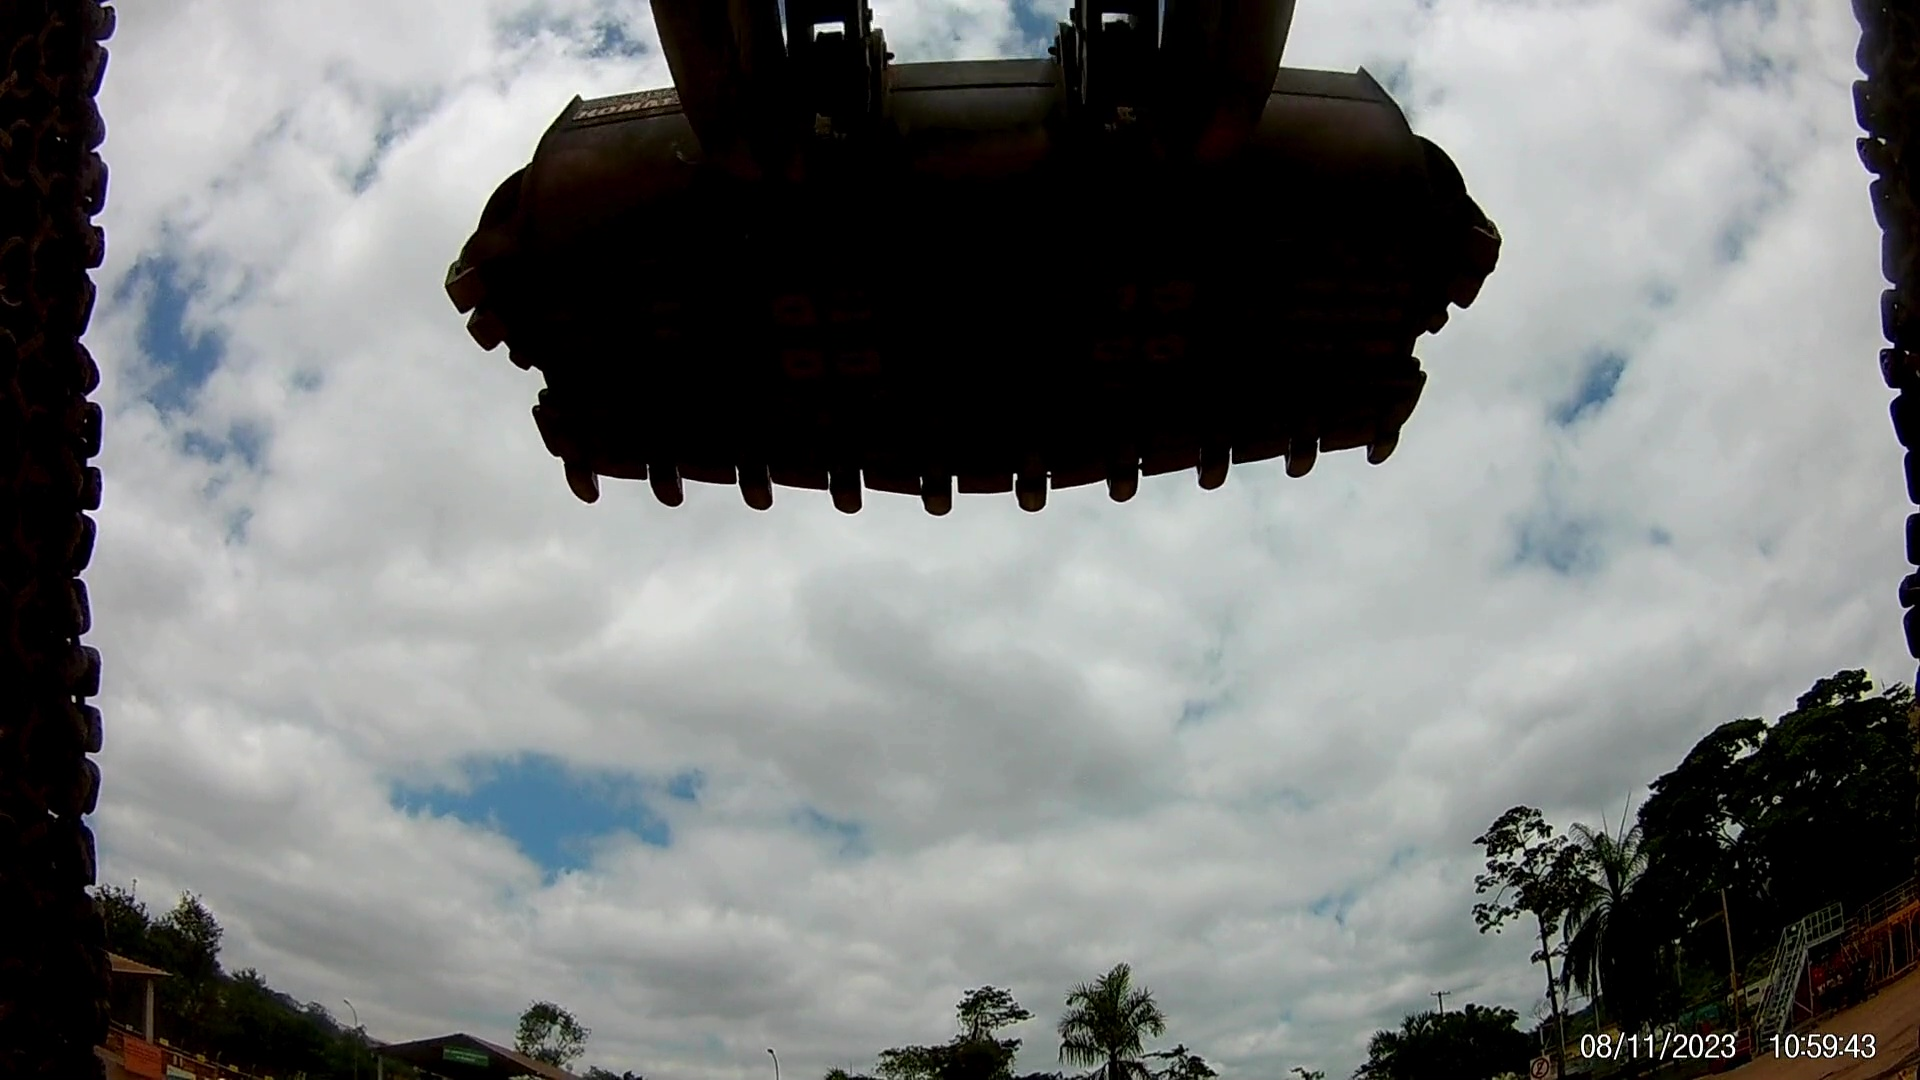FPS: (806, 462, 887, 543), (625, 460, 702, 529), (905, 469, 957, 550), (1000, 467, 1054, 535), (549, 472, 613, 529), (1282, 438, 1320, 505), (1189, 458, 1236, 506), (738, 472, 789, 517), (1104, 469, 1156, 512), (1367, 434, 1396, 484)
